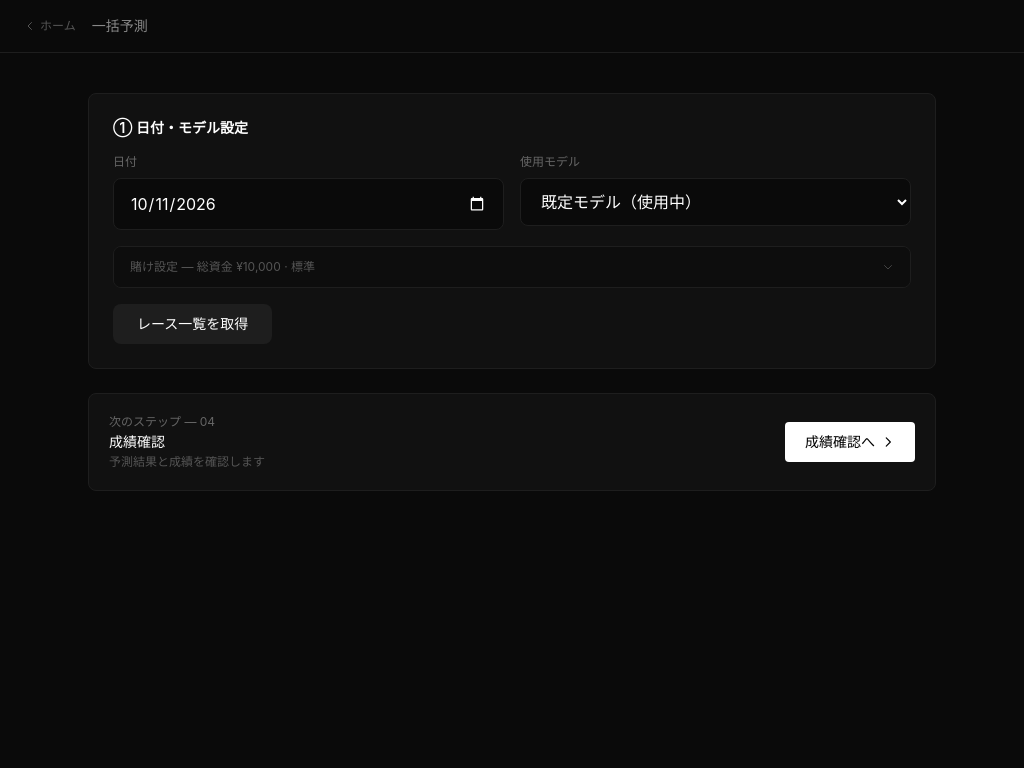
batch reference expectation display only › shows a neutral labelled trial, leaving reference probabilities, skip and zero stakes intact: local-db-shared-v1
The image size is (1024, 768).
Step 1. Click the button "レース一覧を取得" → (193, 324), box [113, 304, 272, 344]
(page scrolled)
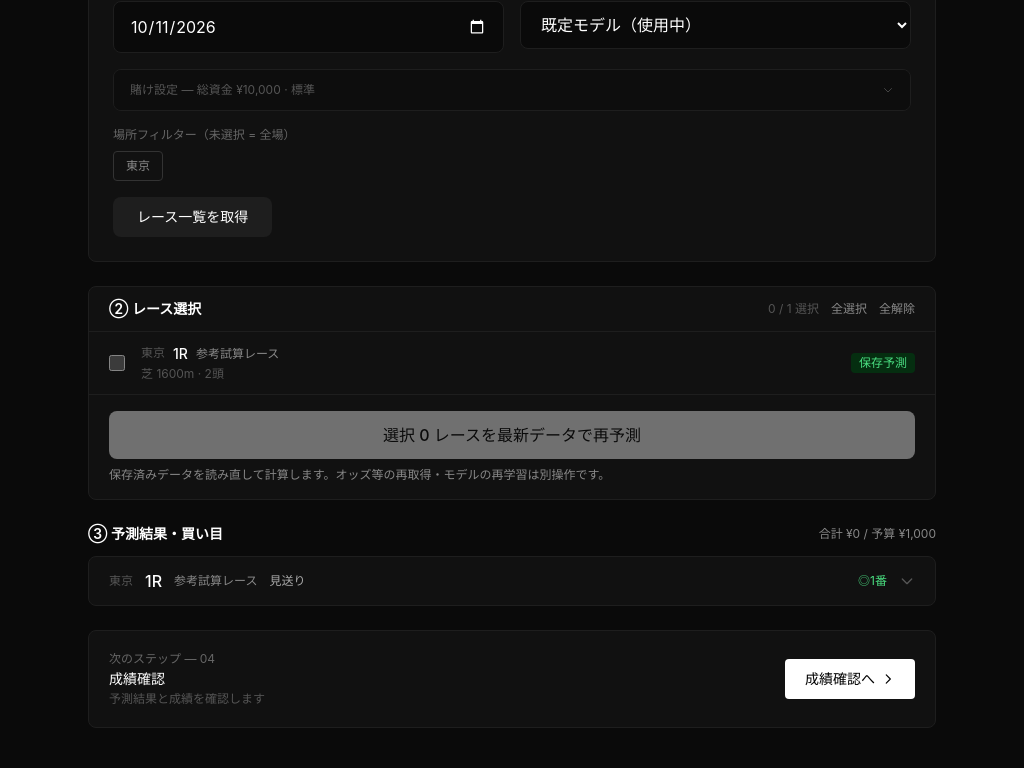
Step 2. Click the button "東京 1R 参考試算レース 見送り ◎1番" → (216, 580), box [89, 557, 935, 605]
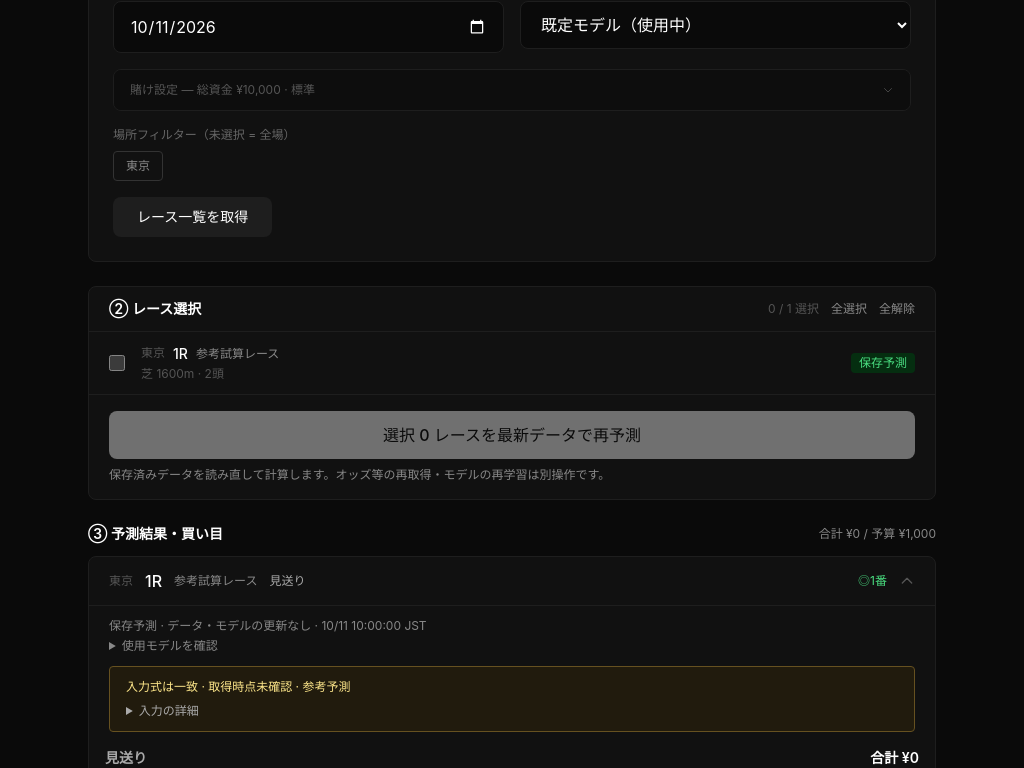
Now the 1st text "見送り" is shown, box [269, 573, 305, 589]
Now the text "合計 ¥0" is shown, box [870, 748, 919, 767]
